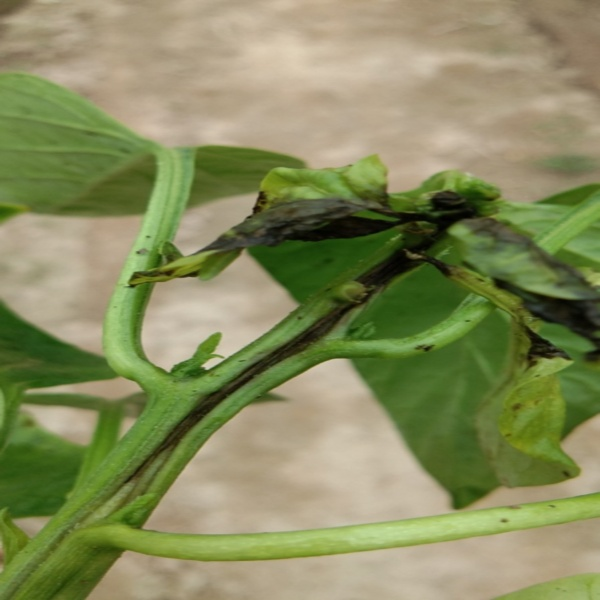blight: (474, 216, 599, 363), (211, 189, 477, 253), (129, 370, 245, 480), (239, 299, 355, 375), (356, 227, 448, 299), (407, 343, 439, 353), (405, 341, 437, 351)
